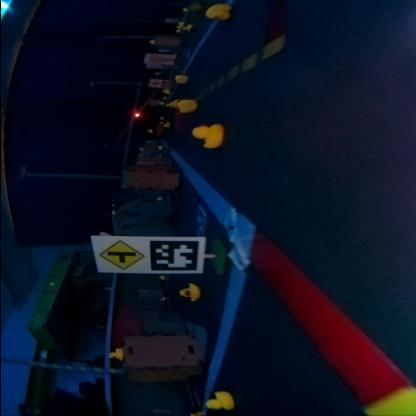Duckie: (194, 123, 221, 147), (206, 392, 232, 410), (205, 3, 227, 19), (178, 284, 198, 299), (175, 98, 193, 112), (108, 348, 121, 358), (173, 74, 185, 82)
Intersection sign: (97, 240, 145, 270)
QR code: (148, 241, 198, 269)
